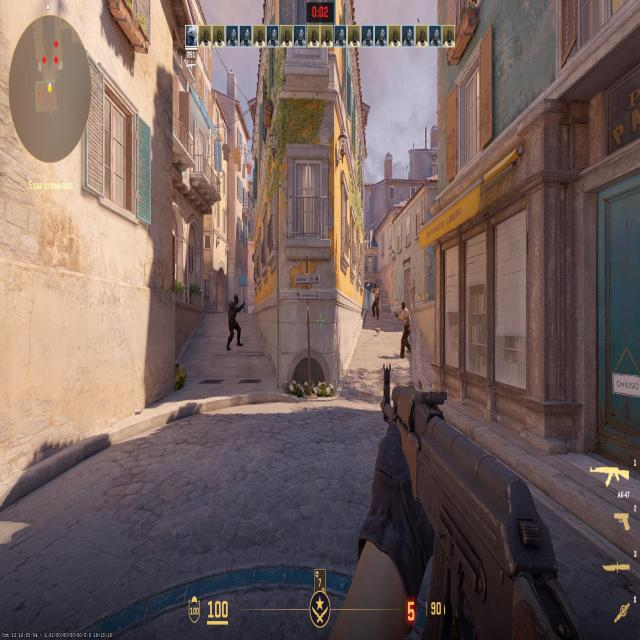CT: (230, 295, 238, 342)
CT_heat: (230, 296, 236, 309)
T: (401, 301, 411, 342), (374, 284, 378, 312)
T_heat: (402, 306, 408, 316), (376, 288, 377, 296)
